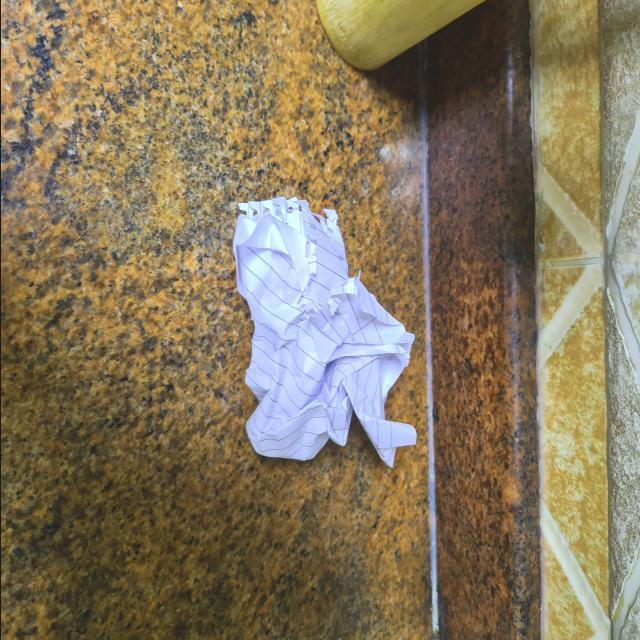Paper: (223, 192, 424, 474)
